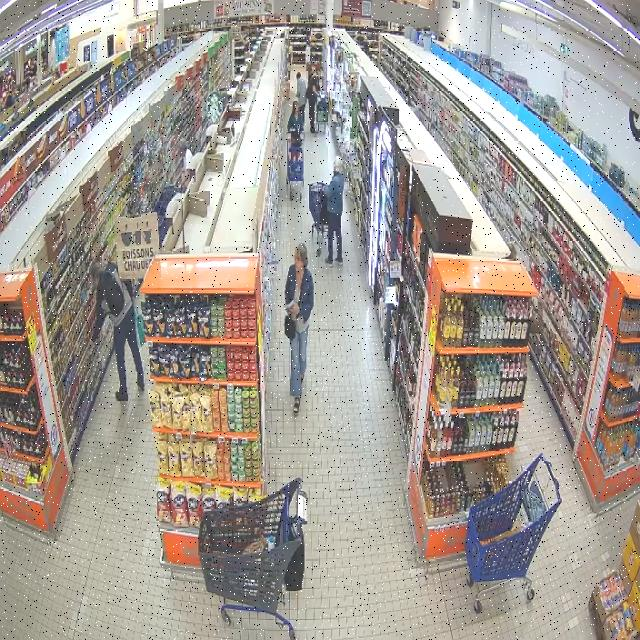bags: (285, 522, 304, 591), (101, 271, 124, 316), (285, 314, 296, 340)
hands: (291, 303, 299, 317), (92, 336, 97, 344)
person: (91, 264, 144, 401), (285, 244, 313, 414), (324, 156, 344, 266), (288, 101, 303, 133)
